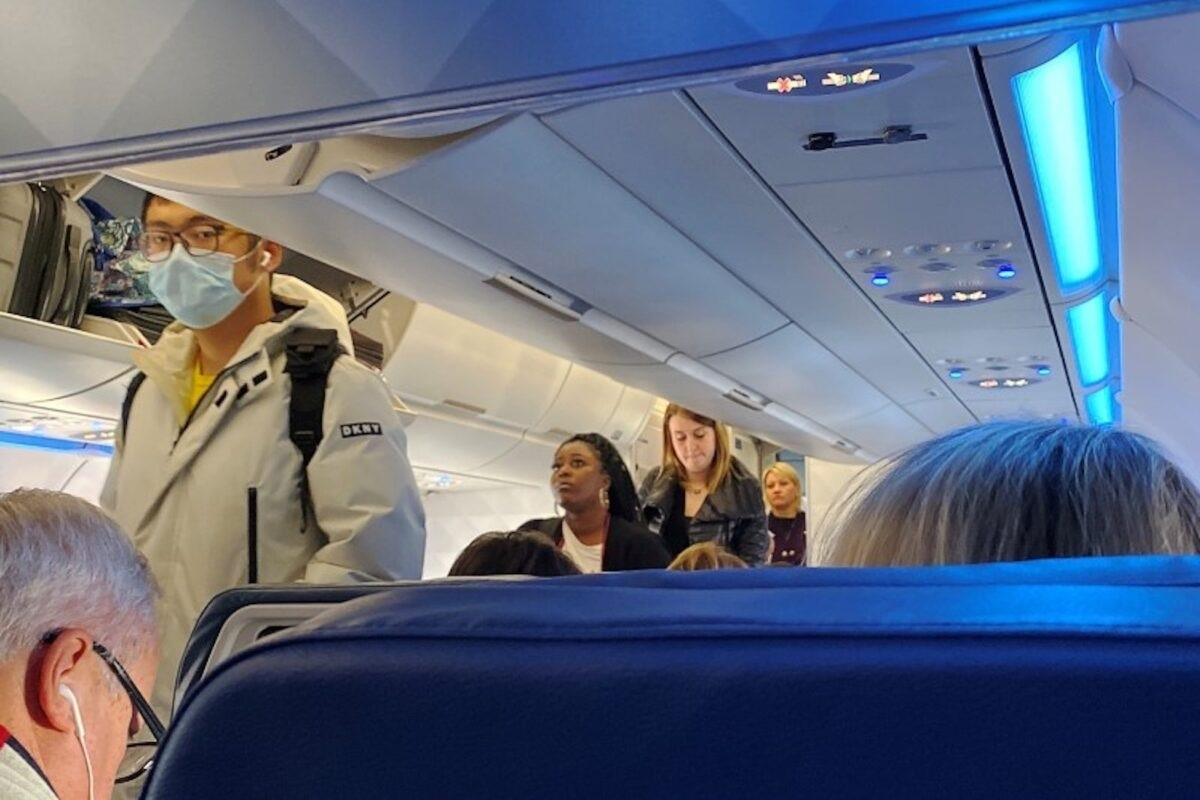face_no_mask: (551, 428, 619, 513), (662, 399, 724, 480), (763, 458, 799, 523)
face_with_mask: (143, 198, 274, 320)
